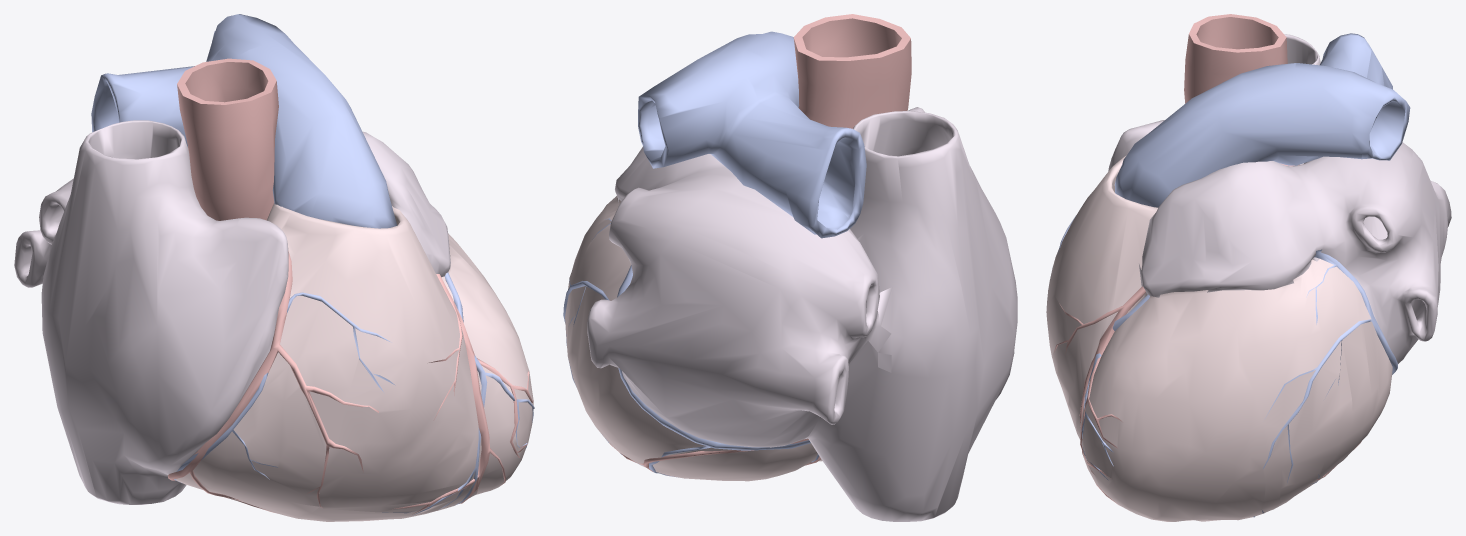
Rendered from heart_animated2.glb.
3 views of the same model, side by side, from view 1: azimuth 30°, elevation 25°; view 2: azimuth 150°, elevation 25°; view 3: azimuth 270°, elevation 25° (orthographic). The views are drawn at different scales.
Parts seen in each view (by area): view 1: Ventricles, Left_Atrium, Pulmonary Trunk, Aorta, Right_Atrium, Coronary_Arterial_System, Coronary_Venous_System; view 2: Right_Atrium, Left_Atrium, Pulmonary Trunk, Ventricles, Aorta, Coronary_Venous_System, Coronary_Arterial_System; view 3: Ventricles, Right_Atrium, Pulmonary Trunk, Aorta, Coronary_Venous_System, Coronary_Arterial_System, Left_Atrium.
Part boxes in pixels (<box>): Ventricles: <box>176,203,533,521</box>; Left_Atrium: <box>41,120,288,504</box>; Pulmonary Trunk: <box>91,14,397,228</box>; Aorta: <box>177,58,278,220</box>; Right_Atrium: <box>14,131,450,287</box>; Coronary_Arterial_System: <box>168,251,533,514</box>; Coronary_Venous_System: <box>174,272,534,515</box>; Right_Atrium: <box>587,146,892,447</box>; Left_Atrium: <box>804,107,1017,521</box>; Pulmonary Trunk: <box>638,31,866,238</box>; Ventricles: <box>565,196,822,481</box>; Aorta: <box>793,14,911,128</box>; Coronary_Venous_System: <box>563,218,818,477</box>; Coronary_Arterial_System: <box>609,438,820,476</box>; Ventricles: <box>1046,155,1392,521</box>; Right_Atrium: <box>1139,142,1451,363</box>; Pulmonary Trunk: <box>1114,33,1410,207</box>; Aorta: <box>1184,14,1299,166</box>; Coronary_Venous_System: <box>1052,215,1397,517</box>; Coronary_Arterial_System: <box>1054,286,1361,513</box>; Left_Atrium: <box>1108,34,1320,171</box>.
Bounding box in the file's own units: 5.79 × 6.01 × 5.45.
